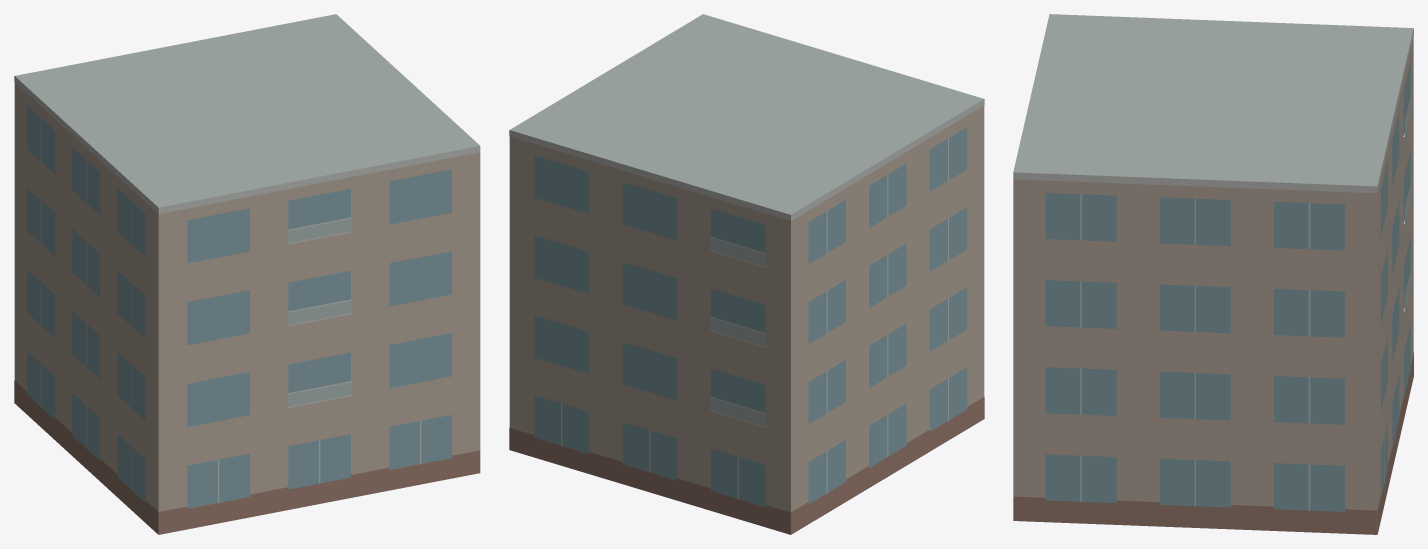
The model's file is survey-upis-32961579.glb.
3 views of the same model, side by side, from view 1: azimuth 30°, elevation 25°; view 2: azimuth 150°, elevation 25°; view 3: azimuth 270°, elevation 25° (orthographic). The views are drawn at different scales.
Parts seen in each view (by area): view 1: survey-upis-32961579.tmp; view 2: survey-upis-32961579.tmp; view 3: survey-upis-32961579.tmp.
Boxes of the visible parts, x1=… form: survey-upis-32961579.tmp: x1=14, y1=14, x2=480, y2=534; survey-upis-32961579.tmp: x1=509, y1=14, x2=984, y2=534; survey-upis-32961579.tmp: x1=1013, y1=14, x2=1413, y2=534.
Bounding box in the file's own units: 13.11 × 12.35 × 12.88.
